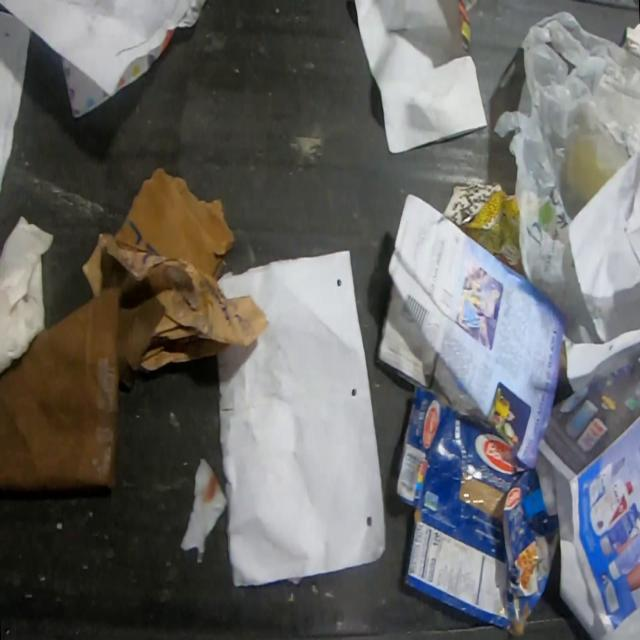cardboard: (0, 261, 194, 493), (390, 381, 559, 639), (113, 164, 236, 280)
soft_plastic: (492, 9, 640, 343)
